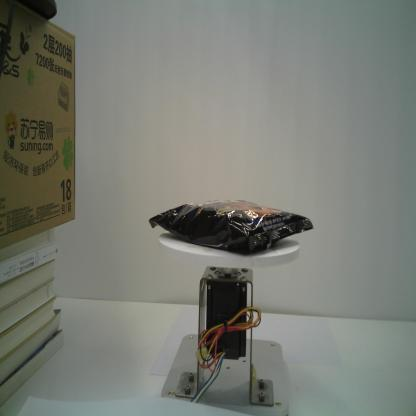Instant Noodles: (148, 198, 314, 252)
